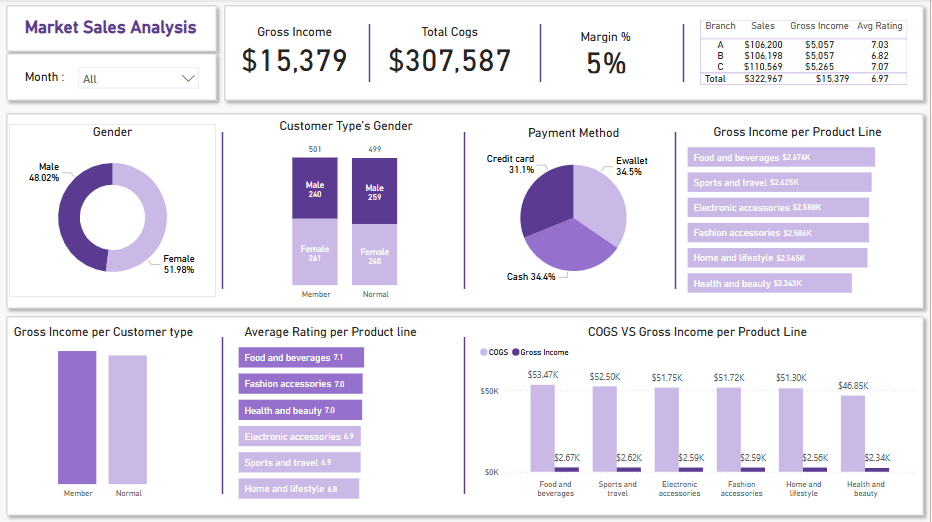

This screenshot's page, from the dashboard's own definition file:
{"tool":"powerbi","page":{"name":"Page 2","canvas":[1280,720],"ordinal":1},"visuals":[{"type":"shape","box":[0,0,306.9,81.2],"z":0},{"type":"shape","box":[300,0,980,148.6],"z":1000},{"type":"shape","box":[0,428,1280,291.8],"z":2000},{"type":"shape","box":[0,148.6,1280,286.3],"z":3000},{"type":"card","title":"Gross Income","fields":{"Values":["Sum(Supermarket Sales Cleaned.gross income)"]},"box":[312.4,34.4,185.8,72.9],"z":4000},{"type":"card","title":"Margin %","fields":{"Values":["Supermarket Sales Cleaned.Margin %"]},"box":[754.2,41.3,158.3,66.1],"z":5000},{"type":"card","title":"Total Cogs","fields":{"Values":["Sum(Supermarket Sales Cleaned.cogs)"]},"box":[525.8,34.4,185.8,72.9],"z":6000},{"type":"textbox","box":[28.9,19.3,260.1,42.7],"z":7000},{"type":"shape","box":[622.1,183.1,34.4,216.1],"z":8000},{"type":"shape","box":[912.5,183.1,34.4,216.1],"z":9000},{"type":"shape","box":[622.1,465.2,34.4,216.1],"z":10000},{"type":"shape","box":[491.4,34.4,34.4,79.8],"z":11000},{"type":"shape","box":[733.6,34.4,20.6,79.8],"z":12000},{"type":"shape","box":[923.5,34.4,34.4,79.8],"z":13000},{"type":"shape","box":[289,183.1,34.4,216.1],"z":14000},{"type":"shape","box":[289,465.2,34.4,216.1],"z":15000},{"type":"shape","box":[0,66.1,306.9,82.6],"z":16000},{"type":"slicer","fields":{"Values":["Supermarket Sales Cleaned.Month1"]},"box":[97.7,84,185.8,46.8],"z":17000},{"type":"textbox","box":[28.9,92.2,68.8,30.3],"z":18000},{"type":"donutChart","title":"Gender ","fields":{"Category":["Supermarket Sales Cleaned.Gender"],"Y":["Sum(Supermarket Sales Cleaned.Total)"]},"box":[12.4,172,284.9,238.1],"z":19000},{"type":"clusteredBarChart","title":"Gross Income per Product Line  ","fields":{"Category":["Supermarket Sales Cleaned.Product line"],"Y":["Sum(Supermarket Sales Cleaned.gross income)"]},"box":[941.4,172,312.4,238.1],"z":20000},{"type":"clusteredColumnChart","title":"Gross Income per Customer type","fields":{"Category":["Supermarket Sales Cleaned.Customer type"],"Y":["Sum(Supermarket Sales Cleaned.gross income)"]},"box":[12.4,447.3,260.1,246.4],"z":21000},{"type":"clusteredBarChart","title":"Average Rating per Product line","fields":{"Category":["Supermarket Sales Cleaned.Product line"],"Y":["Avg(Supermarket Sales Cleaned.Rating)"]},"box":[323.4,447.3,262.9,246.4],"z":22000},{"type":"pieChart","title":"Payment Method ","fields":{"Category":["Supermarket Sales Cleaned.Payment"],"Y":["CountNonNull(Supermarket Sales Cleaned.Invoice ID)"]},"box":[655.1,173.4,268.4,236.7],"z":23000},{"type":"clusteredColumnChart","title":"COGS VS Gross Income per Product Line","fields":{"Category":["Supermarket Sales Cleaned.Product line"],"Y":["Sum(Supermarket Sales Cleaned.cogs)","Sum(Supermarket Sales Cleaned.gross income)"]},"box":[655.1,447.3,609.7,246.4],"z":24000},{"type":"columnChart","title":"Customer Type''s Gender","fields":{"Category":["Supermarket Sales Cleaned.Customer type"],"Y":["CountNonNull(Supermarket Sales Cleaned.Customer type)"],"Series":["Supermarket Sales Cleaned.Gender"]},"box":[323.4,163.8,305.5,256],"z":25000},{"type":"tableEx","fields":{"Values":["Supermarket Sales Cleaned.Branch","Sum(Supermarket Sales Cleaned.Total)","Sum(Supermarket Sales Cleaned.gross income)","Avg(Supermarket Sales Cleaned.Rating)"]},"box":[957.9,23.4,306.9,107.4],"z":26000}]}

Visuals, with their boxes in screenshot pixels (x1, y1, x2, y2), scaled from the page's 1280x720 canvas onto the 932x522 screenshot:
shape: bbox(0, 0, 223, 59)
shape: bbox(218, 0, 931, 108)
shape: bbox(0, 310, 931, 521)
shape: bbox(0, 108, 931, 315)
"Gross Income" card: bbox(227, 25, 363, 78)
"Margin %" card: bbox(549, 30, 664, 78)
"Total Cogs" card: bbox(383, 25, 518, 78)
textbox: bbox(21, 14, 210, 45)
shape: bbox(453, 133, 478, 289)
shape: bbox(664, 133, 689, 289)
shape: bbox(453, 337, 478, 494)
shape: bbox(358, 25, 383, 83)
shape: bbox(534, 25, 549, 83)
shape: bbox(672, 25, 697, 83)
shape: bbox(210, 133, 235, 289)
shape: bbox(210, 337, 235, 494)
shape: bbox(0, 48, 223, 108)
slicer - Supermarket Sales Cleaned.Month1: bbox(71, 61, 206, 95)
textbox: bbox(21, 67, 71, 89)
"Gender " donutChart: bbox(9, 125, 216, 297)
"Gross Income per Product Line  " clusteredBarChart: bbox(685, 125, 913, 297)
"Gross Income per Customer type" clusteredColumnChart: bbox(9, 324, 198, 503)
"Average Rating per Product line" clusteredBarChart: bbox(235, 324, 427, 503)
"Payment Method " pieChart: bbox(477, 126, 672, 297)
"COGS VS Gross Income per Product Line" clusteredColumnChart: bbox(477, 324, 921, 503)
"Customer Type''s Gender" columnChart: bbox(235, 119, 458, 304)
tableEx - Supermarket Sales Cleaned.Branch x Sum(Supermarket Sales Cleaned.Total): bbox(697, 17, 921, 95)
